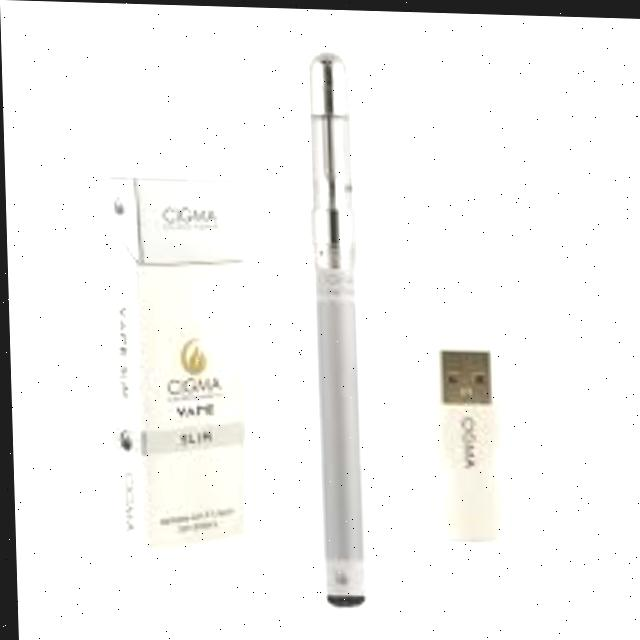vape: (305, 48, 363, 603)
